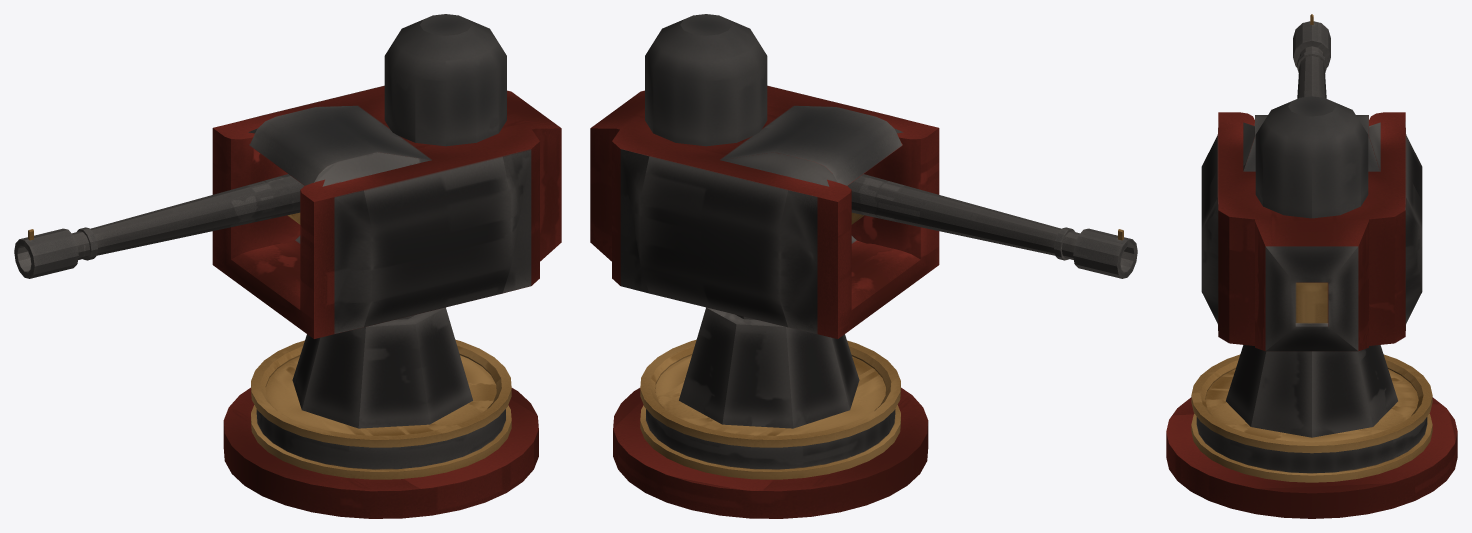
The model's file is Turret.fbx.
3 views of the same model, side by side, from view 1: azimuth 30°, elevation 25°; view 2: azimuth 150°, elevation 25°; view 3: azimuth 270°, elevation 25° (orthographic). The views are drawn at different scales.
Visible parts, largest first — view 1: Circle.002, Cylinder.002; view 2: Circle.002, Cylinder.002; view 3: Circle.002, Cylinder.002.
Boxes of the visible parts, bbox=[...] form: Circle.002: bbox=[212, 14, 561, 518]; Cylinder.002: bbox=[14, 174, 304, 278]; Circle.002: bbox=[590, 14, 939, 518]; Cylinder.002: bbox=[847, 174, 1137, 278]; Circle.002: bbox=[1166, 96, 1457, 518]; Cylinder.002: bbox=[1293, 14, 1330, 98].
Bounding box in the file's own units: 97.71 × 73.18 × 50.88.
Materials: 2 (2 with a texture image).
